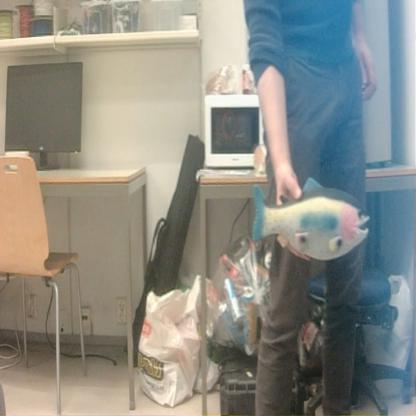rubberfish: (249, 176, 377, 263)
